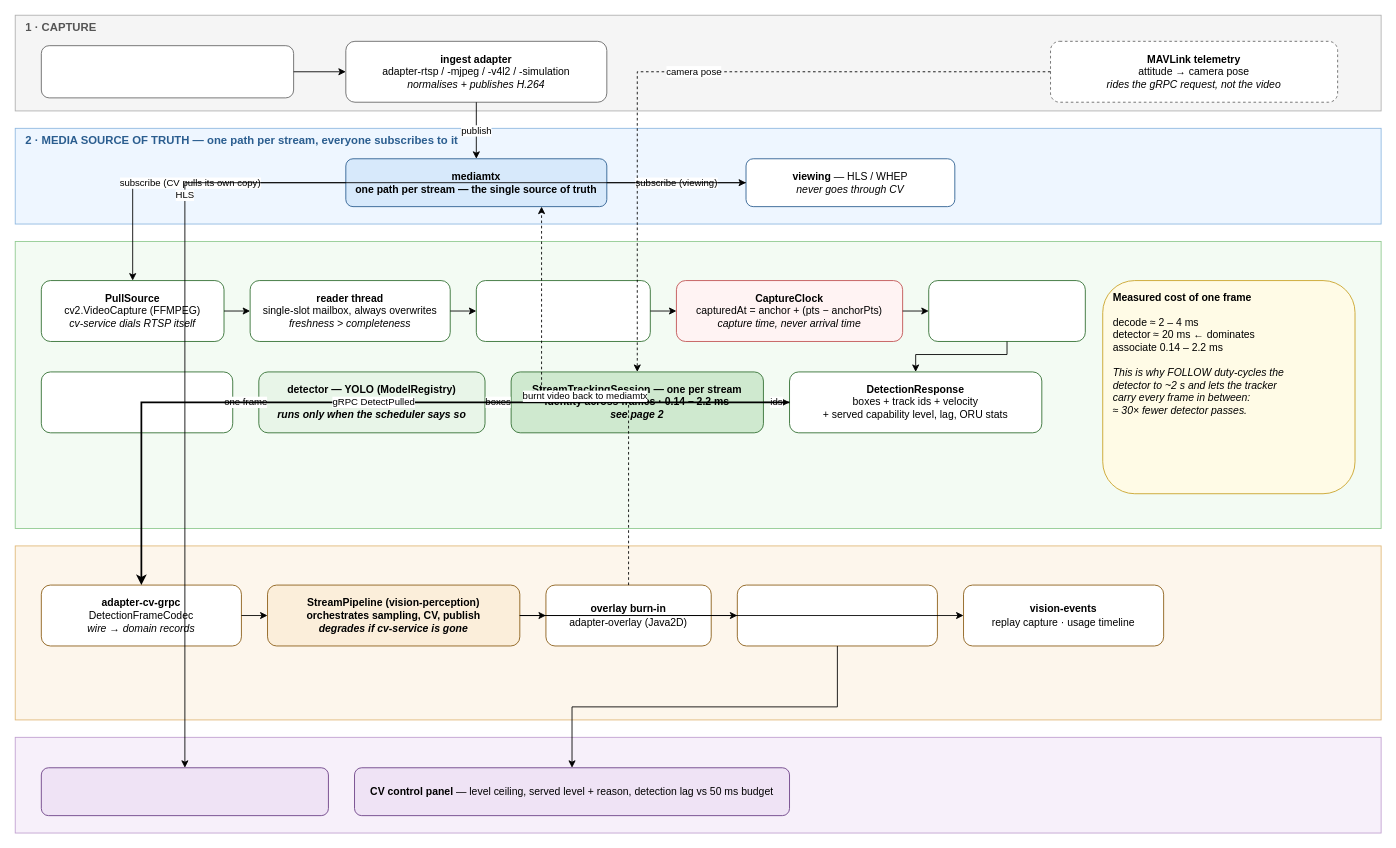
Some shapes in this 1396 by 848 pixel diagram are drawn without their labels. Each missing label, with the box of its shape:
3 · cv-service (Python) — where the pixels become numbers: (14, 241, 1381, 529)
4 · JVM — the numbers become domain facts: (14, 545, 1381, 720)
5 · OPERATOR: (14, 736, 1381, 833)
Camera / drone video RTSP · MJPEG · USB (V4L2) · simulation: (40, 45, 294, 98)
DeadlineSampler target_fps · debt clamp not-selected ≠ dropped: (475, 280, 650, 341)
downscale ≤ 640 px wide, aspect kept: (928, 280, 1085, 341)
Fly cockpit — video + boxes + track ids: (40, 767, 328, 816)
InferenceGate bounds concurrent YOLO passes the tracker never takes it: (40, 371, 233, 433)
SSE live updates boxes, ids, tracking telemetry: (736, 584, 937, 646)
